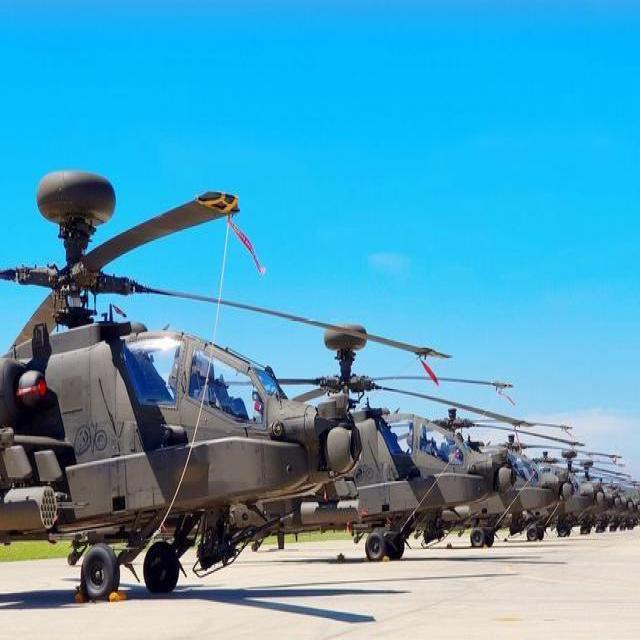MIL_HELO: (9, 162, 367, 606), (313, 368, 506, 564), (431, 372, 564, 568)
